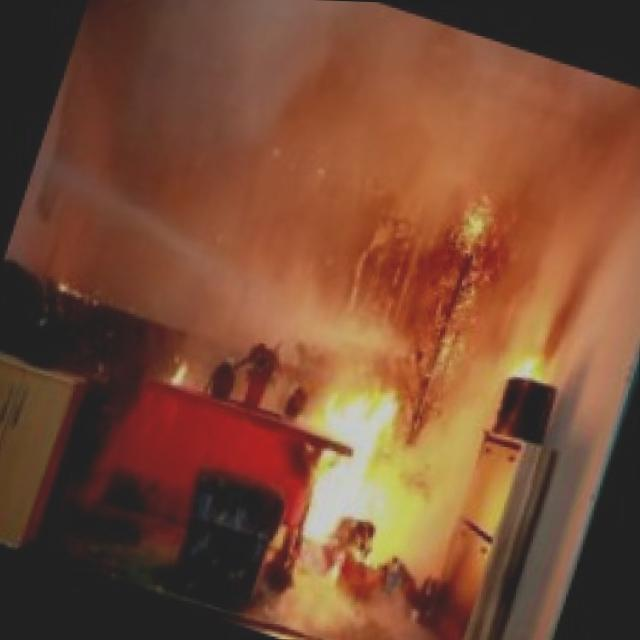fire: (241, 325, 486, 633)
